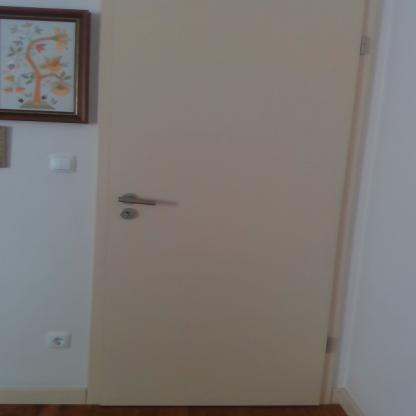door: (98, 0, 332, 410)
hinged: (322, 333, 336, 356), (359, 34, 370, 58)
lever: (120, 194, 162, 209)
